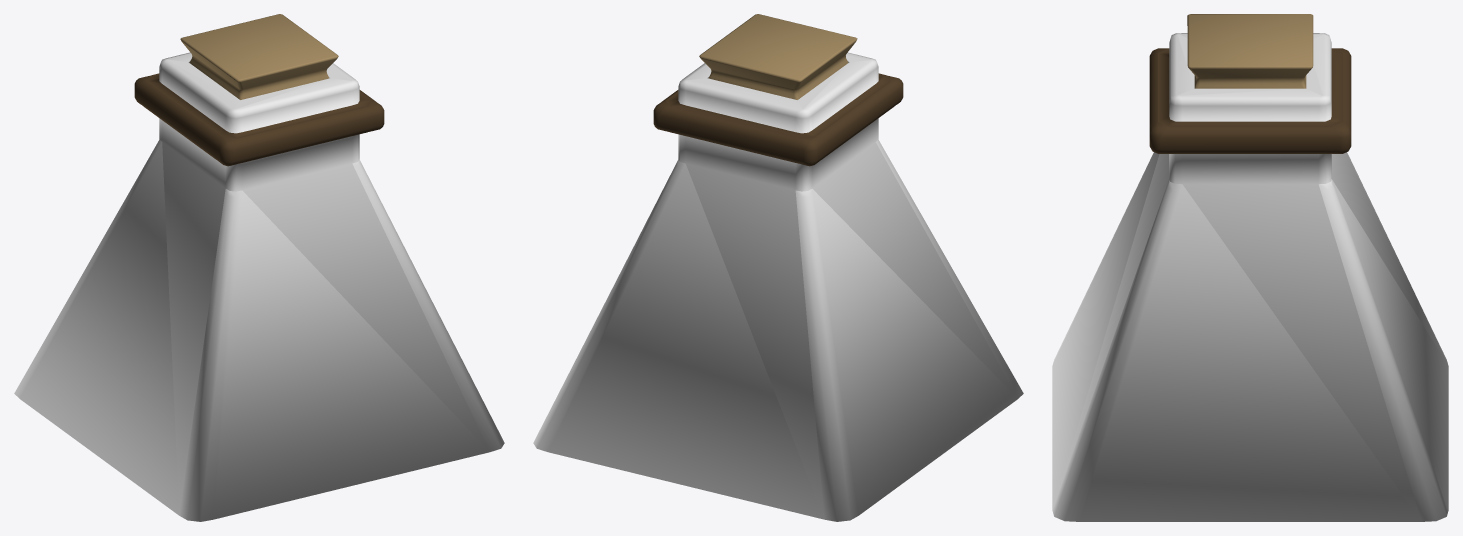
File: potionbottletest.fbx
3 views of the same model, side by side, from view 1: azimuth 30°, elevation 25°; view 2: azimuth 150°, elevation 25°; view 3: azimuth 270°, elevation 25° (orthographic). The views are drawn at different scales.
Visible parts, largest first — view 1: Glass Bottle, Cork; view 2: Glass Bottle, Cork; view 3: Glass Bottle, Cork.
Boxes of the visible parts, left/top/right/bottom form: Glass Bottle: left=14, top=52, right=504, bottom=521; Cork: left=180, top=14, right=338, bottom=99; Glass Bottle: left=533, top=52, right=1023, bottom=521; Cork: left=699, top=14, right=857, bottom=99; Glass Bottle: left=1052, top=33, right=1448, bottom=521; Cork: left=1187, top=14, right=1313, bottom=88.
Bounding box in the file's own units: 200 × 222 × 200.
